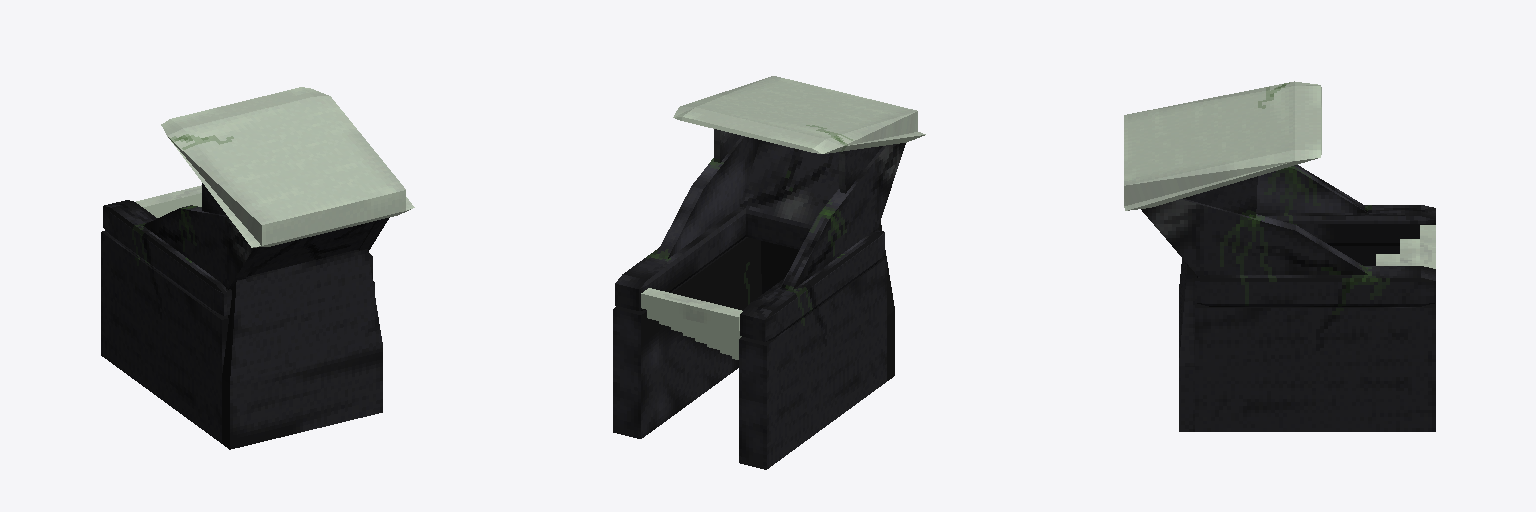
3 views of the same model, side by side, from view 1: azimuth 30°, elevation 25°; view 2: azimuth 150°, elevation 25°; view 3: azimuth 270°, elevation 25° (orthographic).
Visible parts, largest first — view 1: cuboid, beveled_cuboid; view 2: beveled_cuboid, cuboid; view 3: beveled_cuboid, cuboid.
Boxes of the visible parts, x1,y1,x2,y2 form: cuboid: [101, 185, 382, 449]; beveled_cuboid: [103, 87, 414, 315]; beveled_cuboid: [615, 76, 925, 341]; cuboid: [613, 221, 894, 469]; beveled_cuboid: [1124, 81, 1435, 306]; cuboid: [1179, 225, 1435, 431].
Bounding box in the file's own units: 1.47 × 2.37 × 2.43.
Materials: 1 (1 with a texture image).